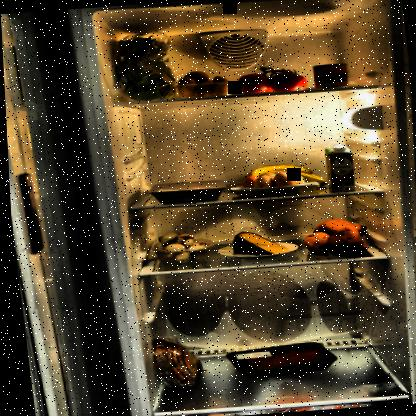banana: (243, 160, 328, 192)
beef: (219, 339, 338, 383)
cheese: (227, 228, 288, 258)
corn: (311, 62, 352, 92)
eggs: (239, 172, 305, 198)
heavy_cream: (322, 144, 356, 193)
mushrooms: (150, 229, 211, 264)
potato: (172, 68, 235, 100)
spinach: (112, 32, 181, 104)
sweet_potato: (296, 216, 370, 260)
tomato: (233, 56, 308, 94)
